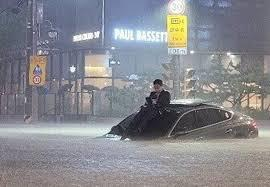water: (1, 116, 269, 186)
